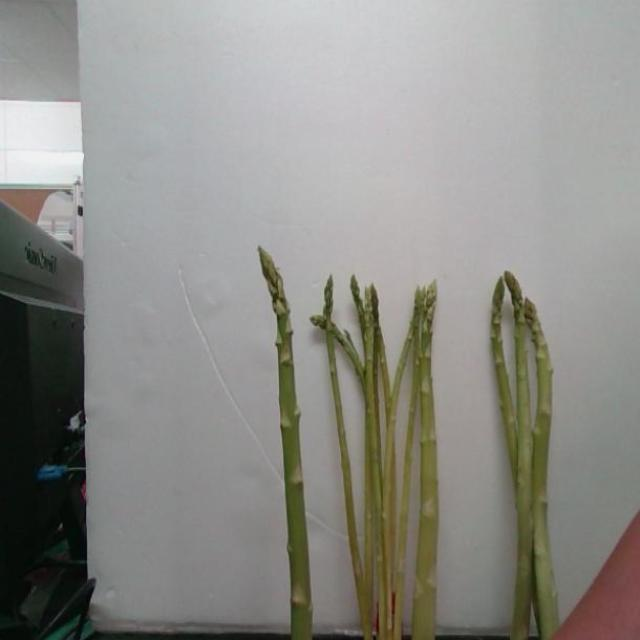aspargus: (259, 250, 315, 640), (524, 296, 556, 640), (413, 281, 441, 640)
